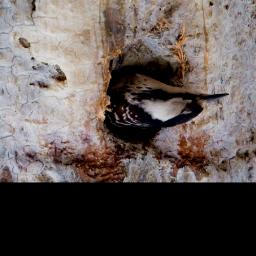Woodpecker: (108, 70, 229, 133)
